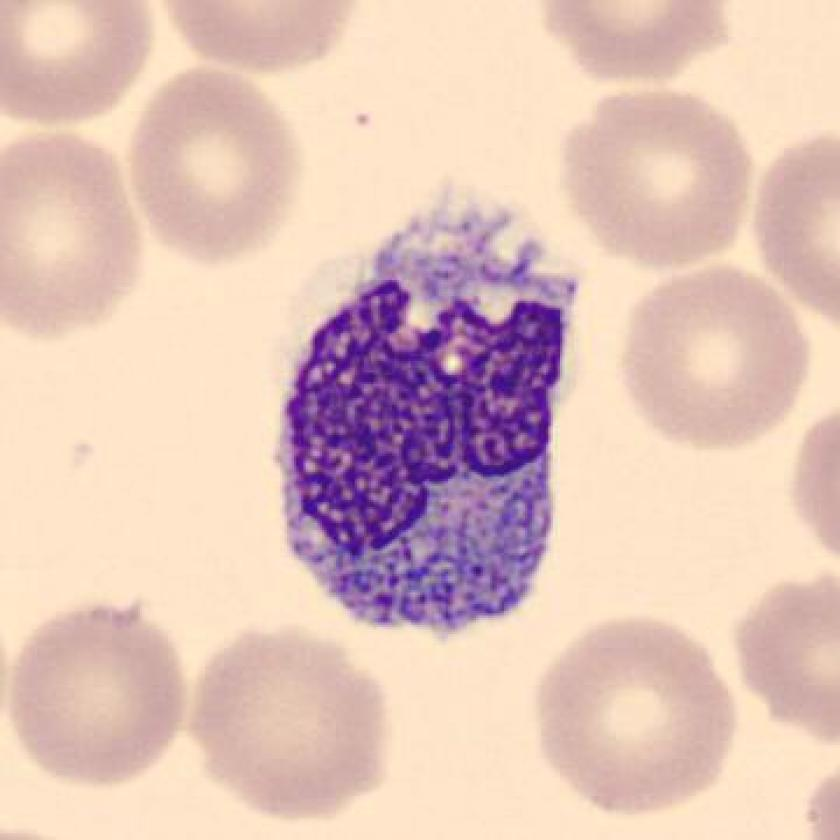monocyte: (244, 184, 601, 663)
